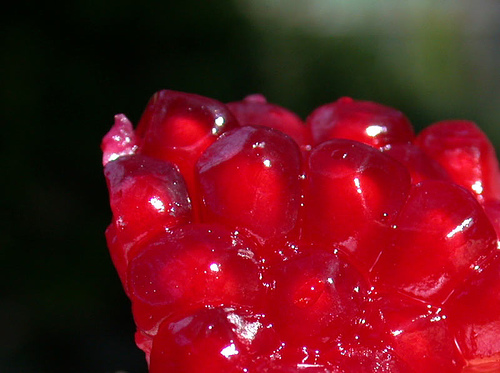pomogranate: (102, 89, 499, 372)
